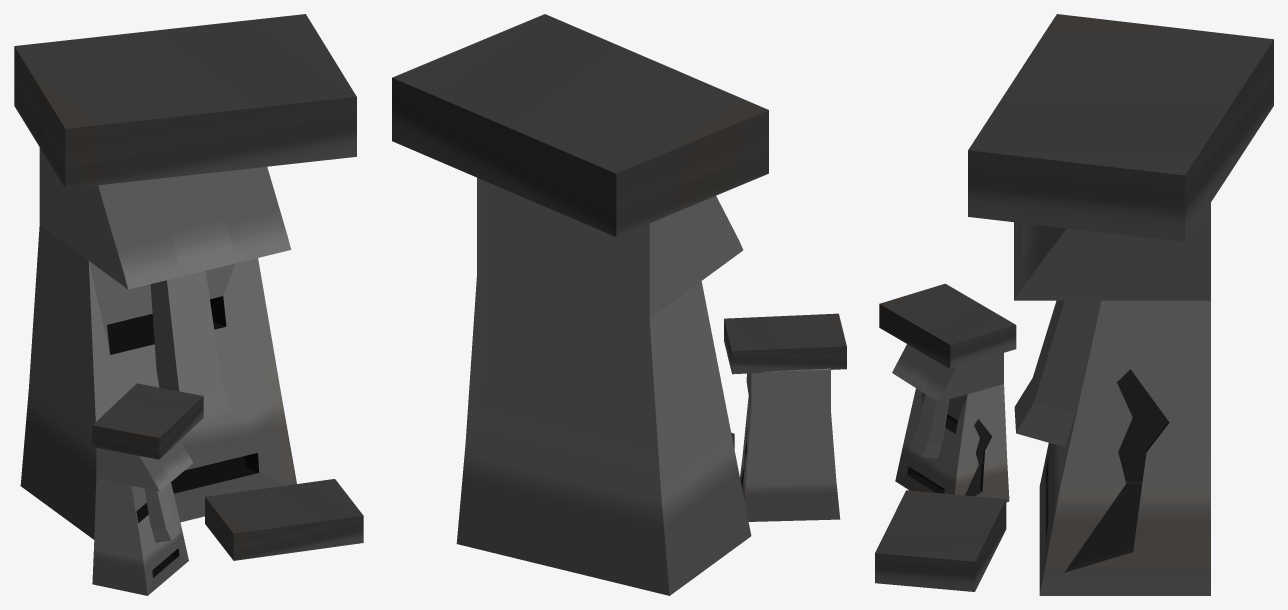
The model's file is EstatuaPedra.glb.
The picture shows the model from 3 angles, left to right: view 1: azimuth 30°, elevation 25°; view 2: azimuth 150°, elevation 25°; view 3: azimuth 270°, elevation 25°; orthographic projection. The views are drawn at different scales.
Parts seen in each view (by area): view 1: EstatuaPedra; view 2: EstatuaPedra; view 3: EstatuaPedra.
Boxes of the visible parts, x1=… form: EstatuaPedra: x1=14, y1=14, x2=363, y2=595; EstatuaPedra: x1=392, y1=14, x2=846, y2=595; EstatuaPedra: x1=875, y1=14, x2=1273, y2=595.
Bounding box in the file's own units: 2.48 × 3.07 × 2.4.
1 material, 1 textured.
